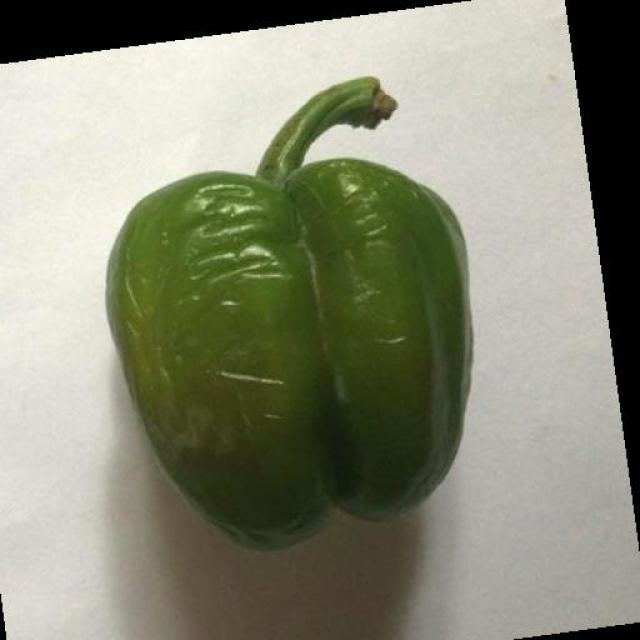Stale_Capsicum: (110, 95, 487, 547)
